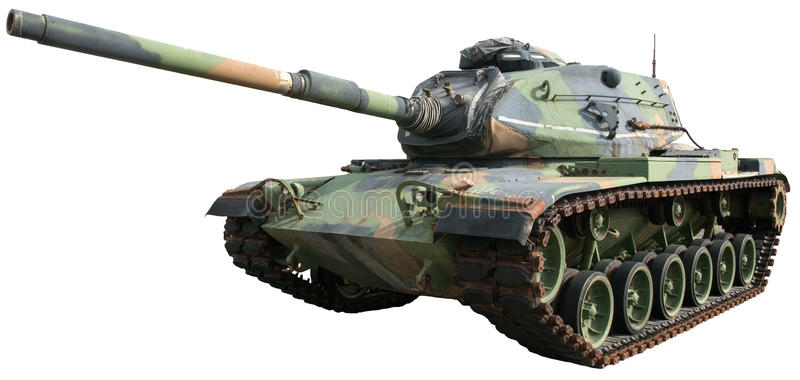m60: (8, 9, 789, 366)
